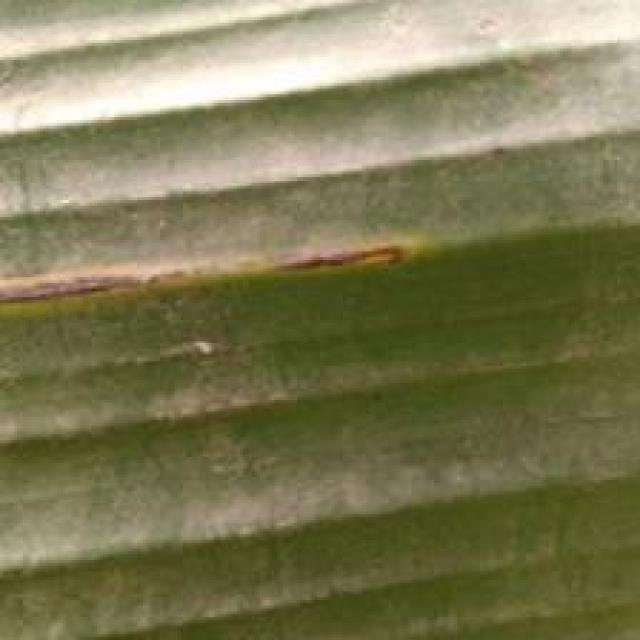Early_leaf_spot: (2, 218, 438, 345)
